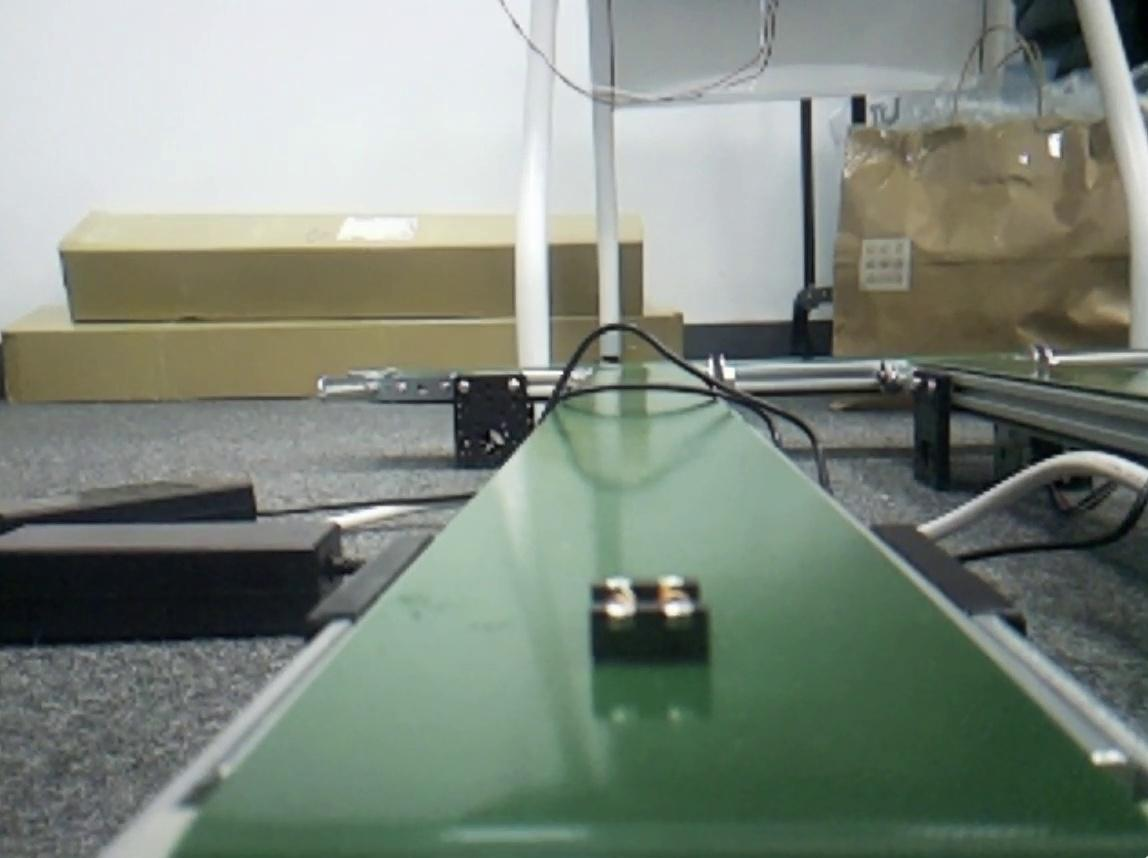inductor: (593, 575, 711, 666)
